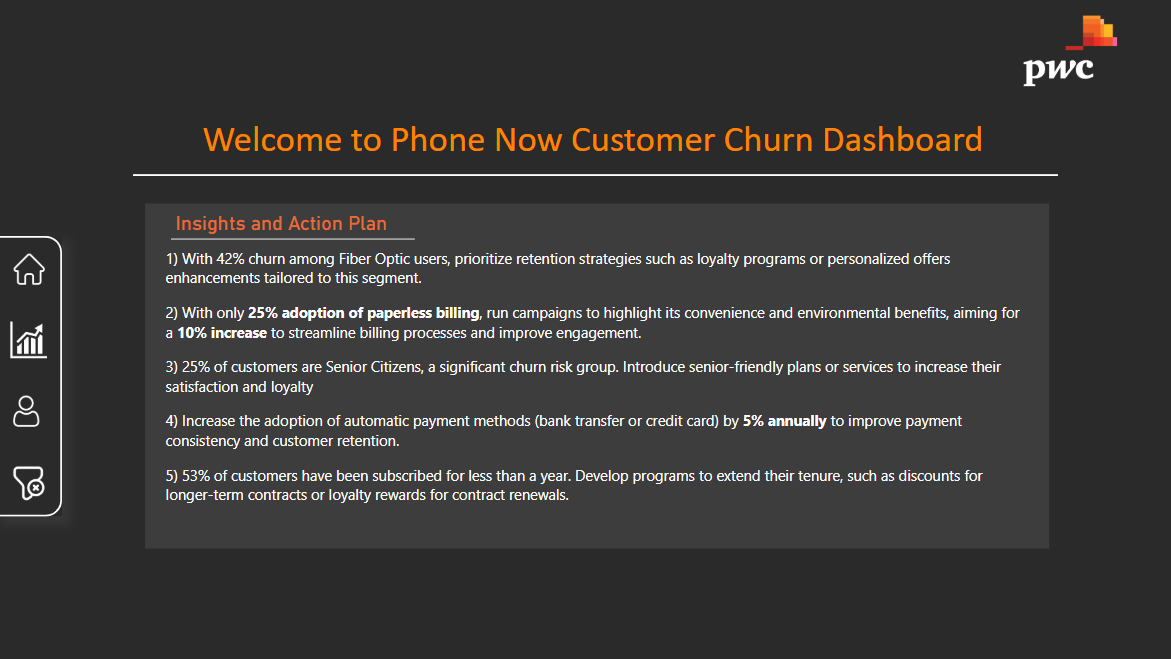

What the dashboard file says about the page in this screenshot:
{"tool":"powerbi","page":{"name":"Home","canvas":[1280,720],"ordinal":0},"visuals":[{"type":"shape","box":[0,258,70.9,306.1],"z":0},{"type":"shape","box":[148.8,41.1,1009.1,299.1],"z":1000},{"type":"image","box":[12.8,271.1,43.9,43.9],"z":2000},{"type":"textbox","title":"Welcome to Phone Now Customer Churn Dashboard","box":[212.6,126.1,874.5,80.8],"z":3000},{"type":"image","box":[7.1,502.1,55.3,51],"z":4000},{"type":"image","box":[9.2,427,51,43.9],"z":5000},{"type":"image","box":[7.1,346.2,55.3,49.6],"z":6000},{"type":"image","box":[1115.4,0,112,112],"z":7000},{"type":"basicShape","box":[151.7,218.3,1006.3,384.1],"z":7001},{"type":"textbox","title":"Insights and Action Plan","box":[189.9,231,266.5,59.5],"z":7002},{"type":"textbox","box":[178.6,266.5,952.4,310.4],"z":7003}]}

Visuals, with their boxes on the page's 1280x720 design canvas (x1, y1, x2, y2). These are canvas units, not pixel positions in the 1171x659 screenshot, which may show the page scaled, cropped or inside an application window:
shape: region(0, 258, 71, 564)
shape: region(149, 41, 1158, 340)
image: region(13, 271, 57, 315)
"Welcome to Phone Now Customer Churn Dashboard" textbox: region(213, 126, 1087, 207)
image: region(7, 502, 62, 553)
image: region(9, 427, 60, 471)
image: region(7, 346, 62, 396)
image: region(1115, 0, 1227, 112)
basicShape: region(152, 218, 1158, 602)
"Insights and Action Plan" textbox: region(190, 231, 456, 290)
textbox: region(179, 266, 1131, 577)
